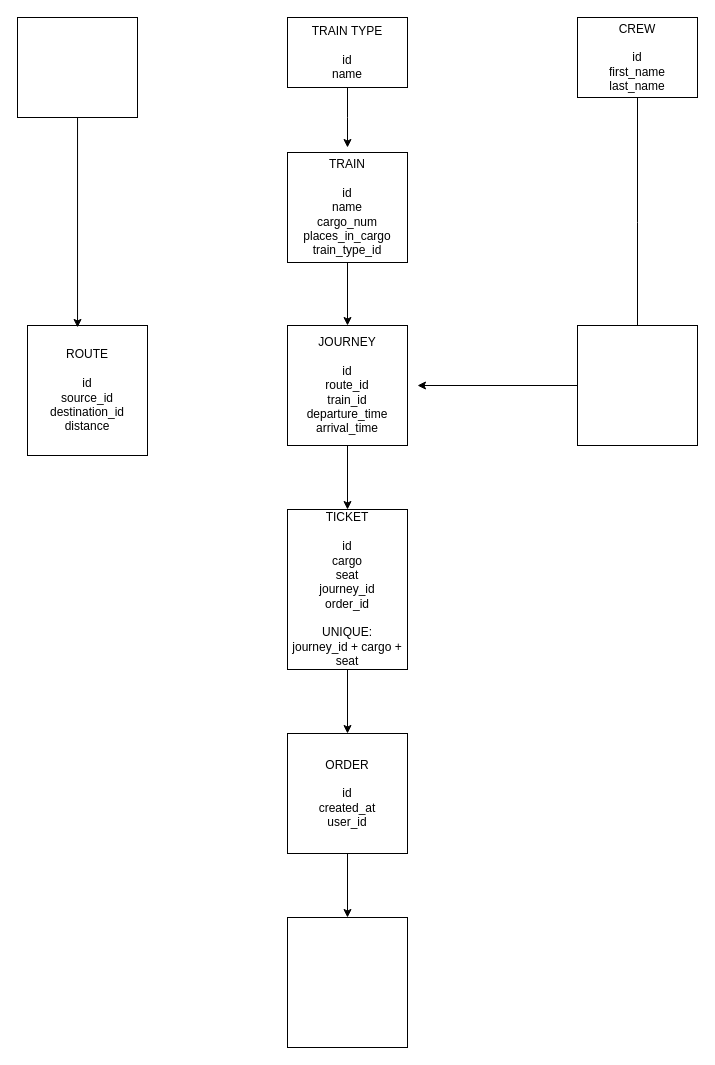
The diagram is 715 pixels wide and 1065 high, and some of its shapes have lost their labels. The shapes that lost their labels are listed below. From the top down, each one's box as (x1, y1, x2, y2) in pixels, then its label:
(16, 16, 138, 118): STATION id name latitude longitude
(576, 324, 698, 446): JOURNEY CREW
(286, 916, 408, 1048): USER id username email password first_name last_name
